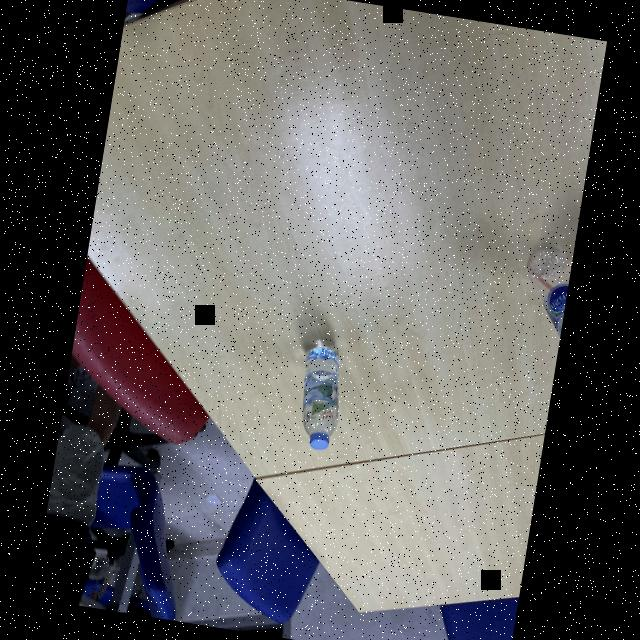plastic_bottle: (292, 338, 352, 452), (514, 245, 574, 352)
plastic_bottle_cap: (307, 432, 333, 453)
